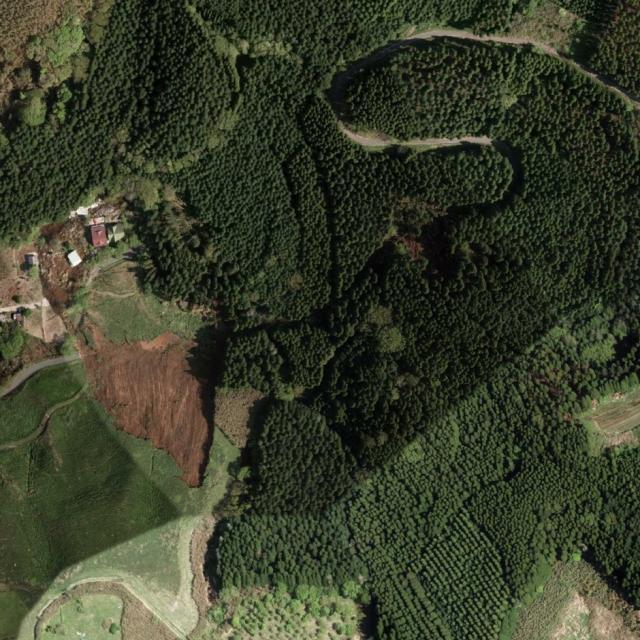landslide: (81, 328, 211, 487)
